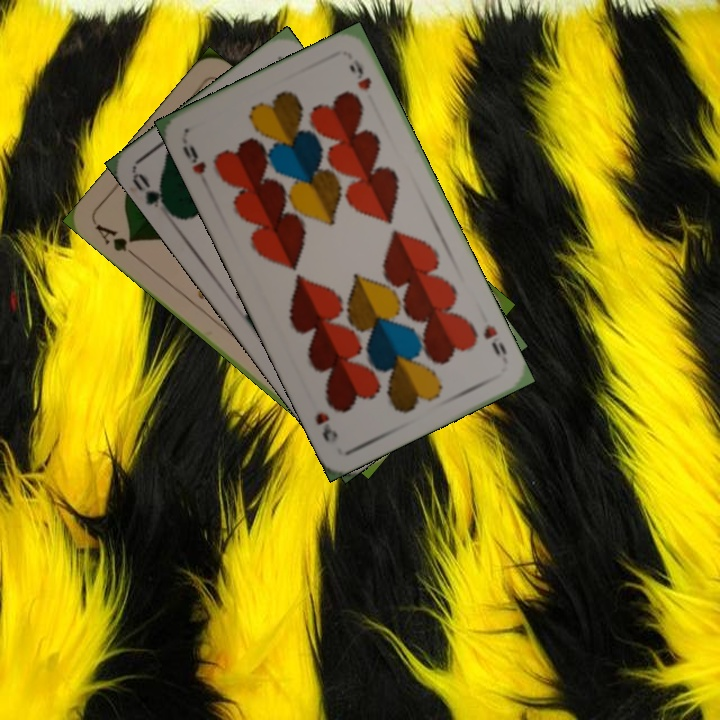GA: (91, 220, 141, 262)
GO: (128, 169, 175, 218)
H9: (479, 320, 510, 358), (178, 141, 209, 177)
